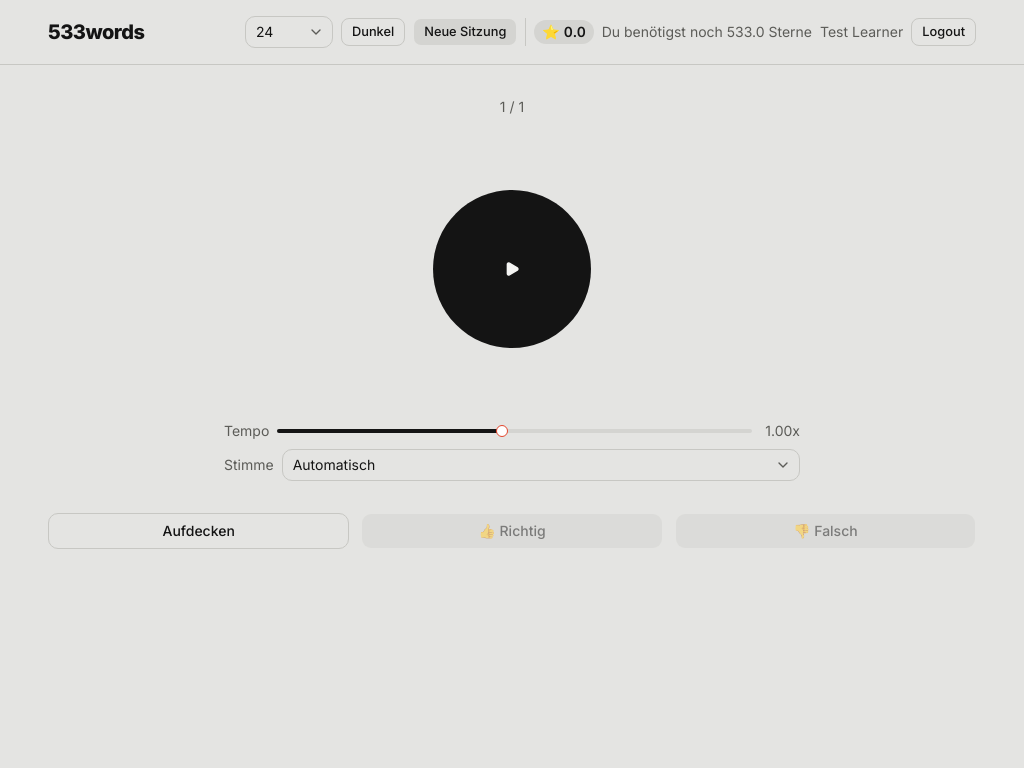
Home practice screen › shows session complete and does not speak again after flagging the last word
Expected: the button named "abspielen" is shown, [432,189,592,349]
Click the button "Aufdecken" at [199, 531], box [48,513,349,549]
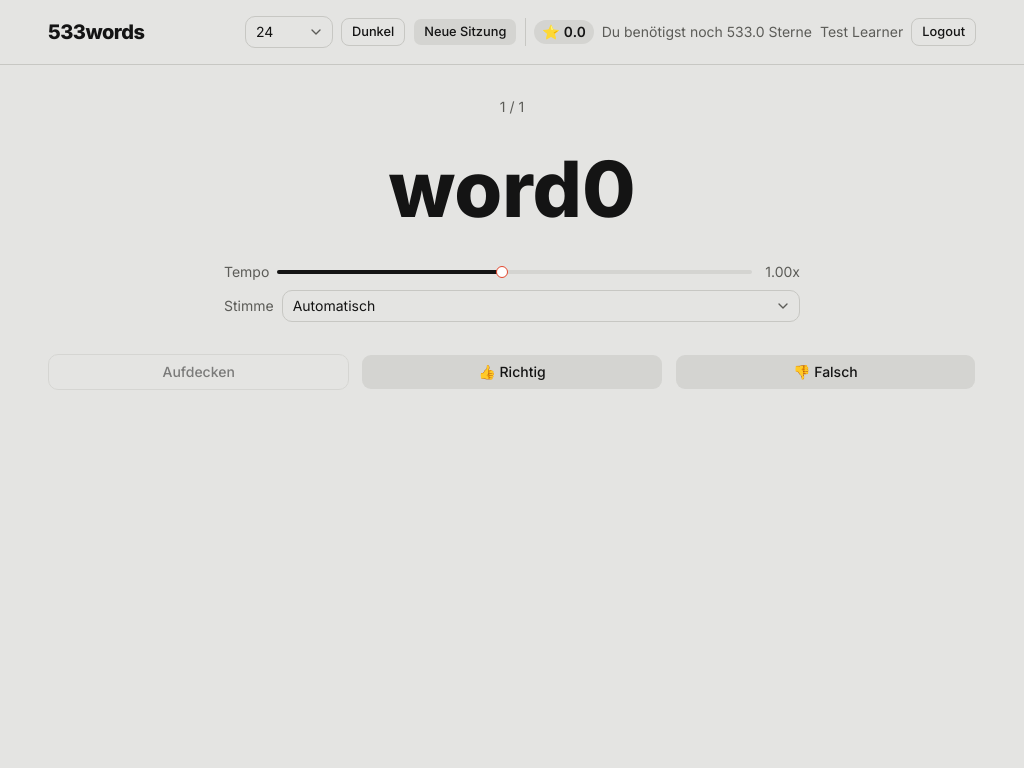
Click the button "👍 Richtig" at [512, 372], box [361,354,663,390]
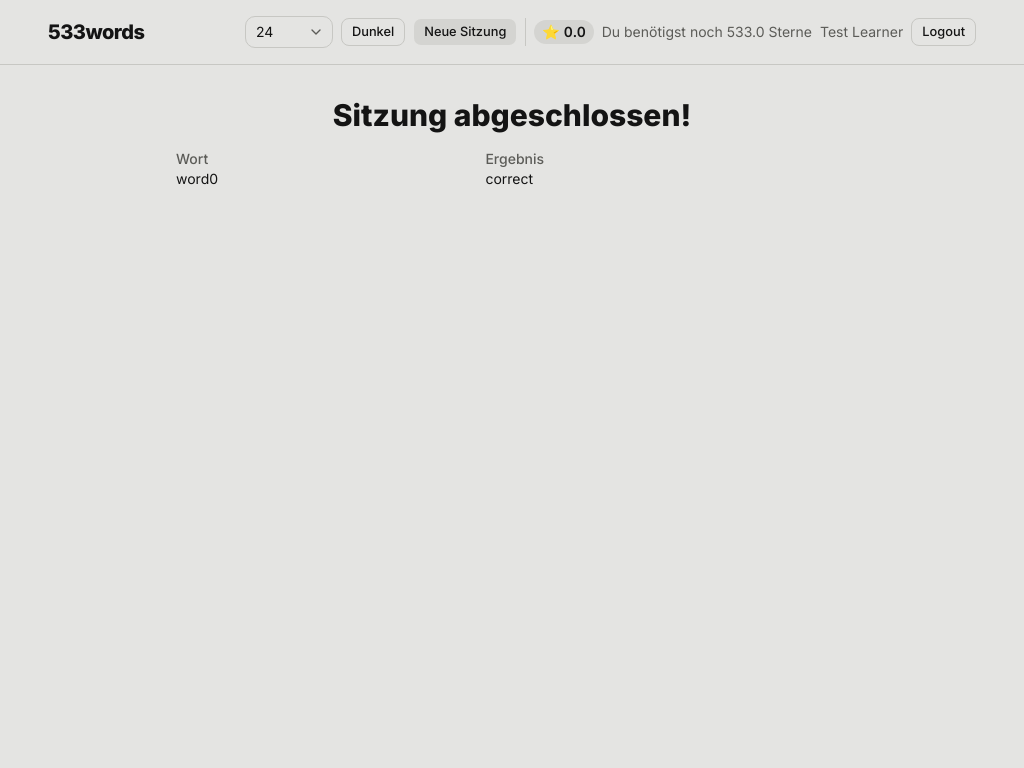
Result: the text "Sitzung abgeschlossen!" is shown at [333,97,691,133]
